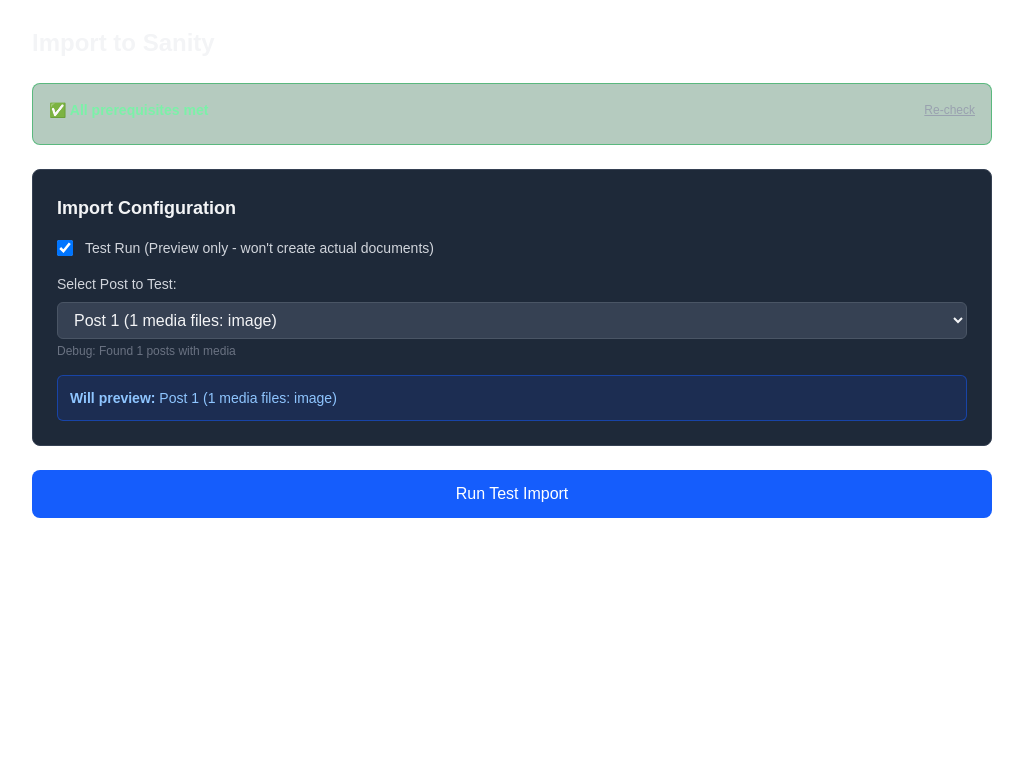
it: ImportToSanityUI — post selection and import flow › runs a successful test import and renders a summary
Check: the dropdown labelled "Select Post to Test:" is shown, box [57, 302, 967, 339]
Click the button "Run Test Import" at (512, 494), box [32, 470, 992, 518]
(page scrolled)
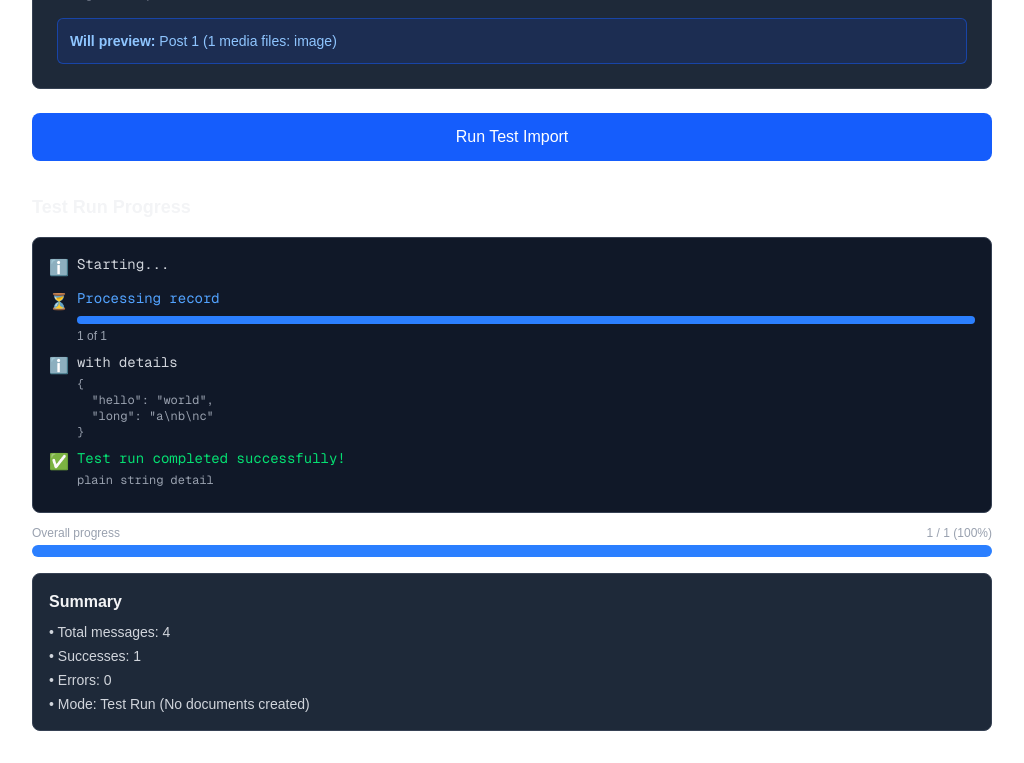
Check: the text "Test run completed successfully!" is shown, box [77, 449, 346, 467]
Check: the text "• Total messages: 4" is shown, box [49, 624, 170, 640]
